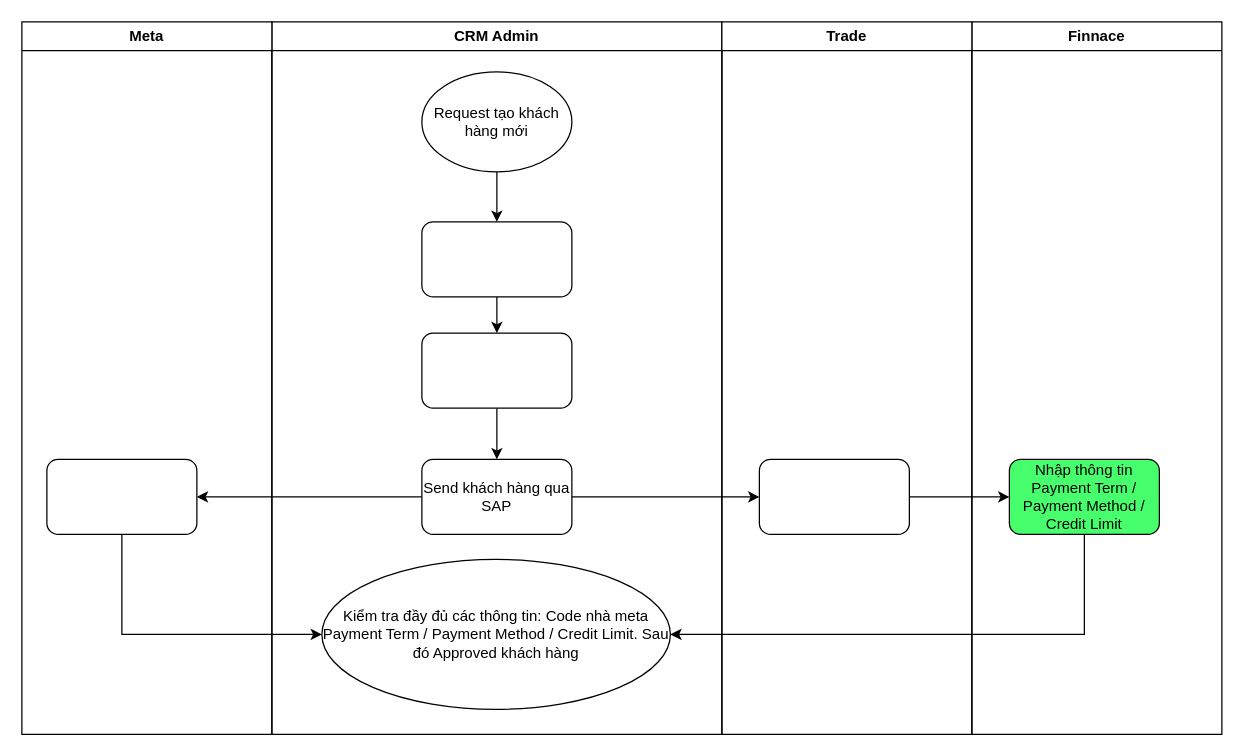
This 1244x756 diagram has some shape labels left out. The centre of each missing label's shape, as x and y in pixels:
"Chuyển sang trạng thái Approving" goes at pixel 496 370.
"Nhập thông tin contract" goes at pixel 833 496.
"Nhập thông tin cơ bản và các giấy tờ cần thiết cho khách hàng" goes at pixel 496 259.
"Request Meta tạo code mới" goes at pixel 121 496.
